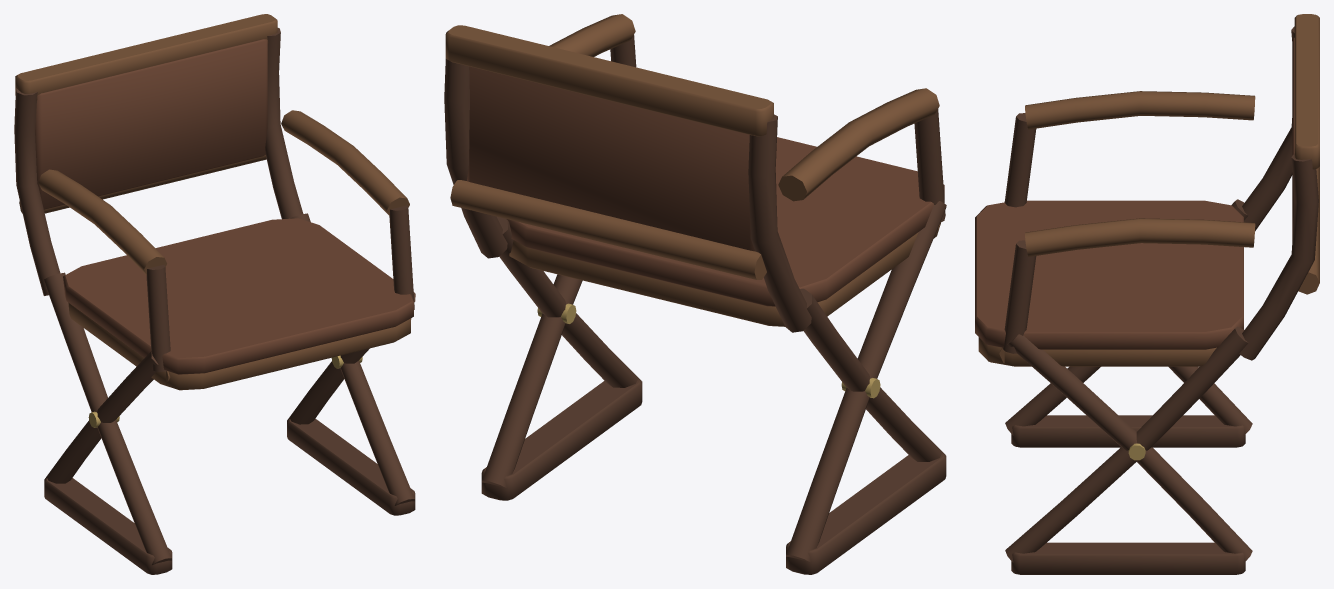
File: rpg-mansion-campaign-fold-01.glb
3 renders of one model, left to right at view 1: azimuth 30°, elevation 25°; view 2: azimuth 150°, elevation 25°; view 3: azimuth 270°, elevation 25°, orthographic. The views are drawn at different scales.
Parts seen in each view (by area): view 1: rpg-mansion-campaign-fold-01; view 2: rpg-mansion-campaign-fold-01; view 3: rpg-mansion-campaign-fold-01.
Boxes of the visible parts, x1,y1,x2,y2 form: rpg-mansion-campaign-fold-01: (14, 14, 415, 574); rpg-mansion-campaign-fold-01: (444, 14, 946, 574); rpg-mansion-campaign-fold-01: (975, 14, 1319, 574).
Size of the model in its own units: 0.579 by 0.818 by 0.601.
